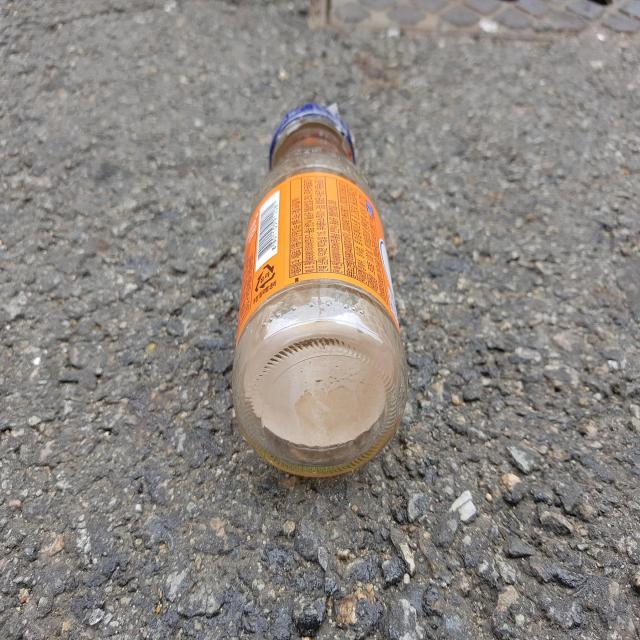glass: (232, 102, 408, 477)
